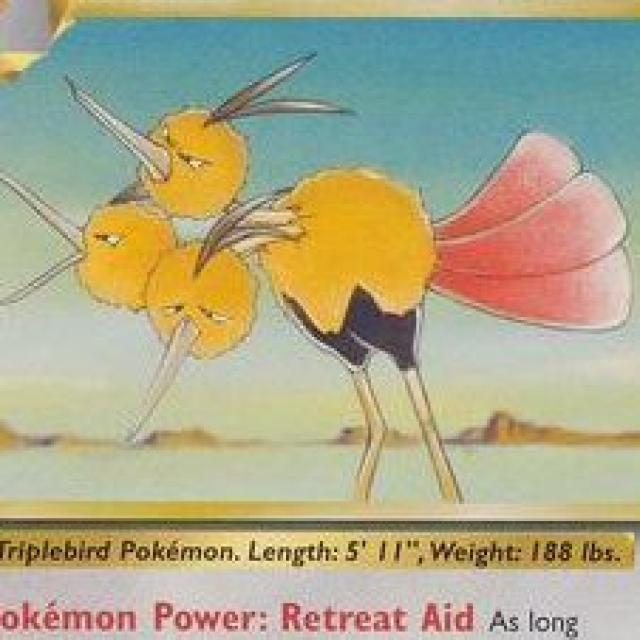Dodrio: (81, 79, 494, 443)
